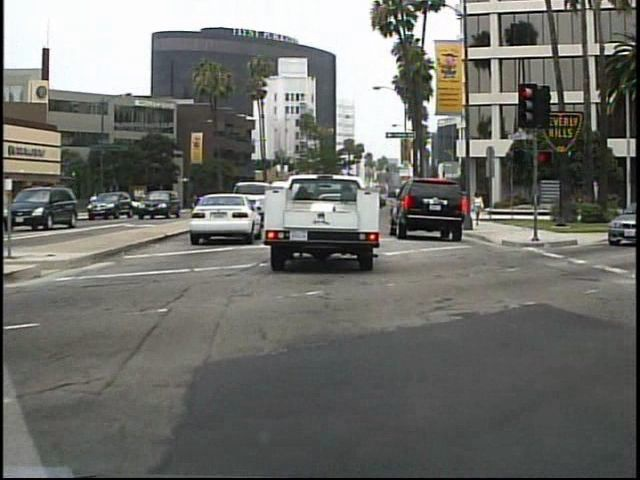person: (87, 189, 106, 222), (473, 188, 485, 229)
